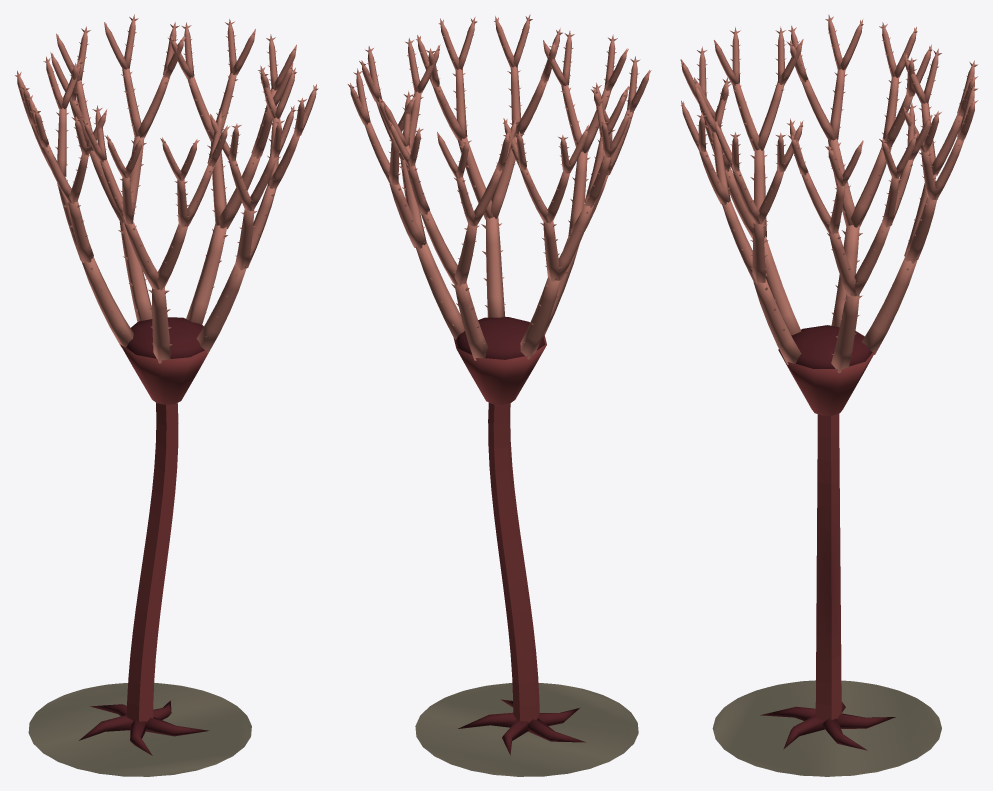
File: Platycrinites.fbx
3 renders of one model, left to right at view 1: azimuth 30°, elevation 25°; view 2: azimuth 150°, elevation 25°; view 3: azimuth 270°, elevation 25°, orthographic. The views are drawn at different scales.
Visible parts, largest first — view 1: Platycrinites; view 2: Platycrinites; view 3: Platycrinites.
Boxes of the visible parts, bbox=[...] form: Platycrinites: bbox=[15, 14, 318, 776]; Platycrinites: bbox=[348, 14, 651, 776]; Platycrinites: bbox=[680, 14, 978, 776].
Size of the model in its own units: 0.9571 by 2.23 by 0.9103.
